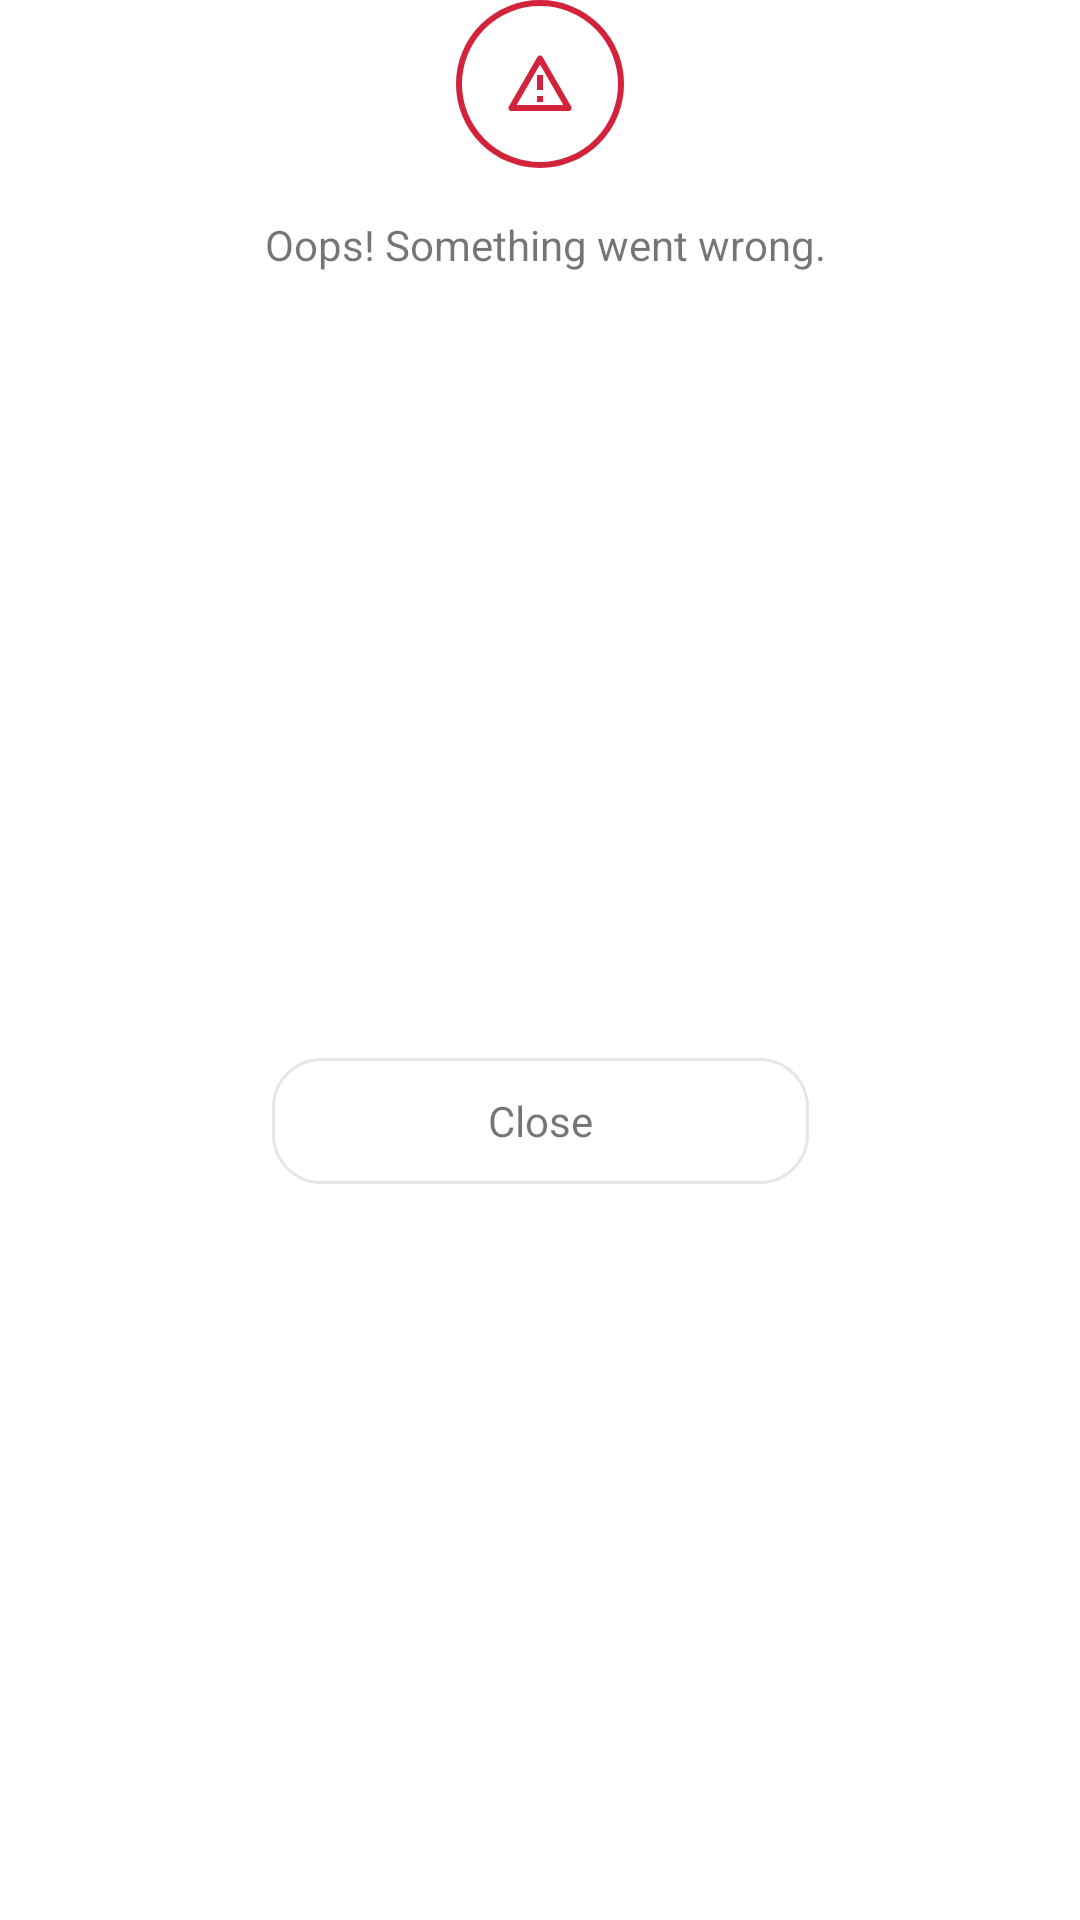

Where icons sit on this 1080px×1920px app screen, as (x1, y1, x2, y2):
status error: (456, 0, 624, 168)
